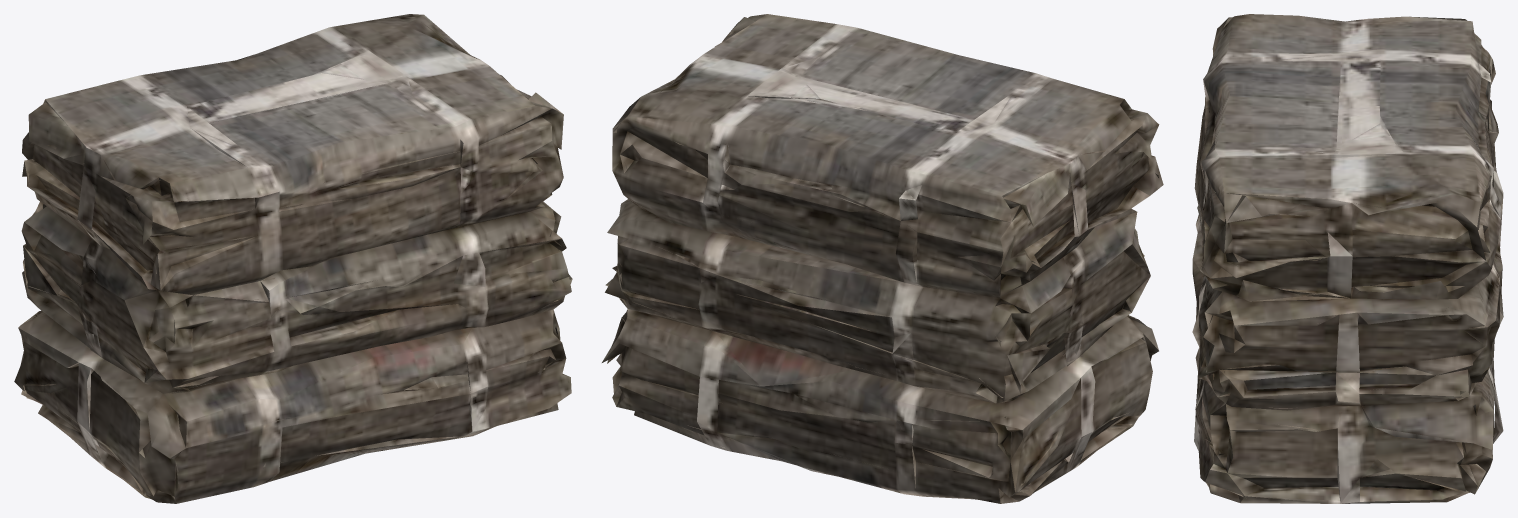
File: p7-newspaper-bundles.glb
3 views of the same model, side by side, from view 1: azimuth 30°, elevation 25°; view 2: azimuth 150°, elevation 25°; view 3: azimuth 270°, elevation 25° (orthographic). The views are drawn at different scales.
Parts seen in each view (by area): view 1: p7-newspaper-bundles; view 2: p7-newspaper-bundles; view 3: p7-newspaper-bundles.
Part boxes in pixels (x1=…): p7-newspaper-bundles: x1=14, y1=14, x2=572, y2=503; p7-newspaper-bundles: x1=602, y1=14, x2=1163, y2=503; p7-newspaper-bundles: x1=1192, y1=14, x2=1503, y2=503.
Bounding box in the file's own units: 0.6098 × 0.45 × 0.3973.
Materials: 1 (1 with a texture image).
